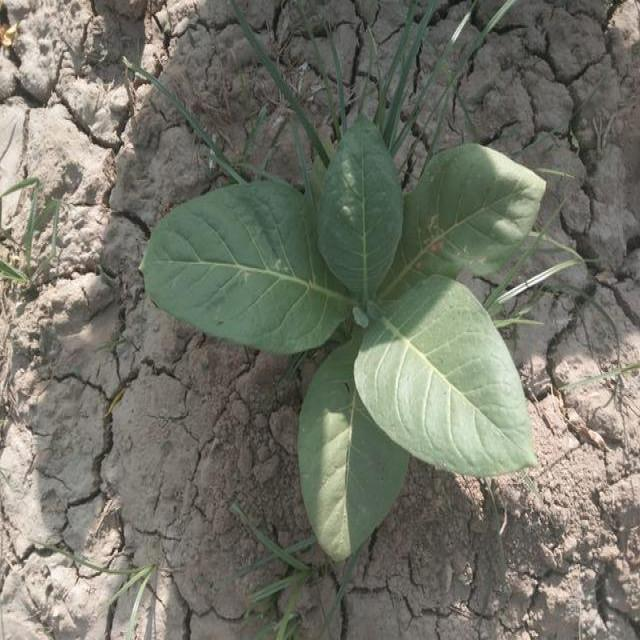crop: (144, 114, 547, 550)
